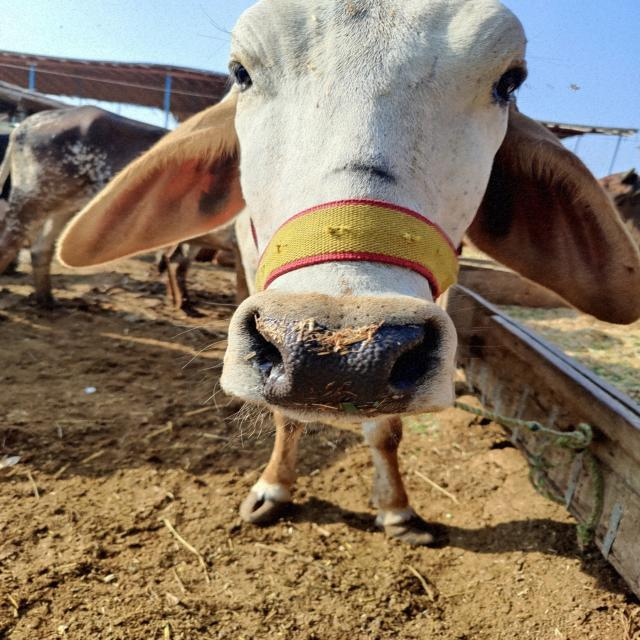muzzles: (231, 288, 446, 417)
